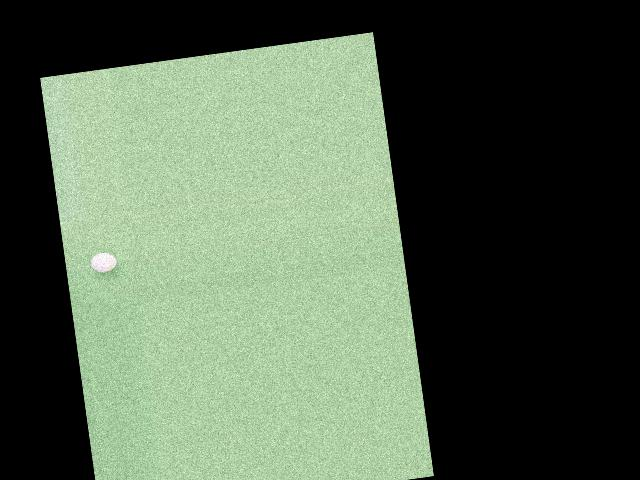egg: (89, 250, 117, 274)
